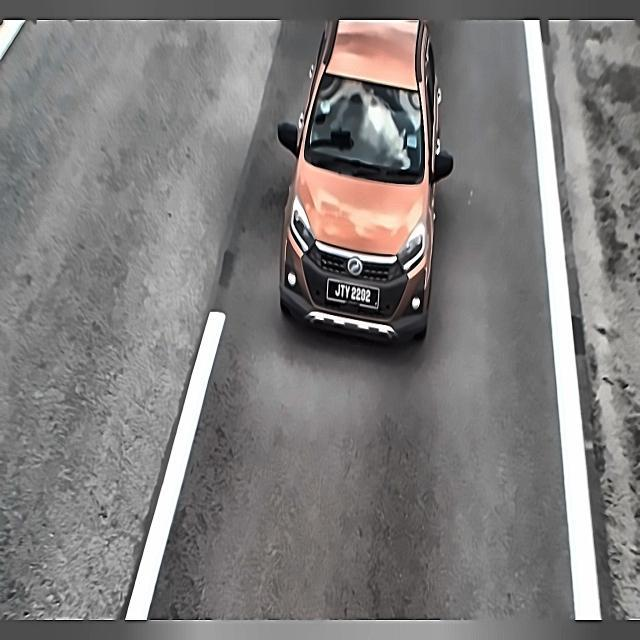car: (324, 271, 383, 318)
